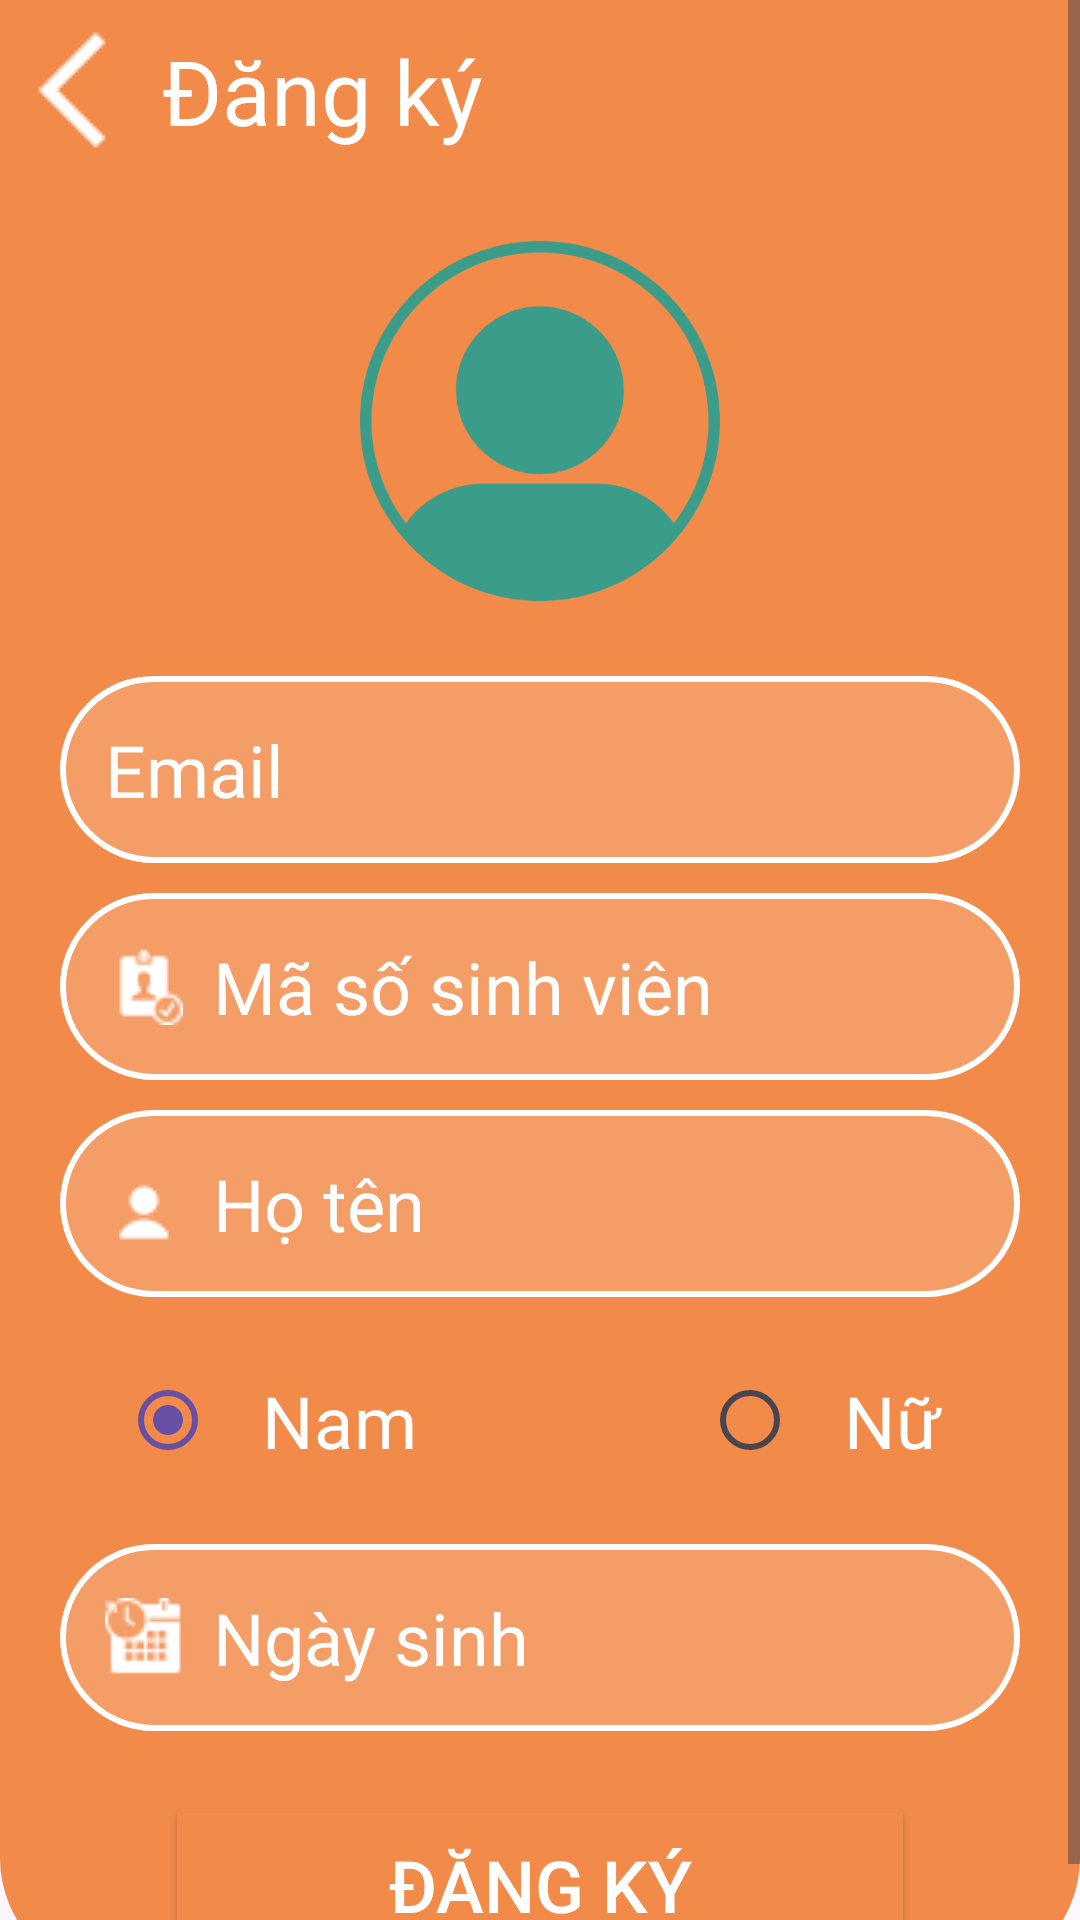

Icons on this 1080px x 1920px Android screen, each with its box as (x1, y1, x2, y2):
back: (38, 32, 106, 148)
